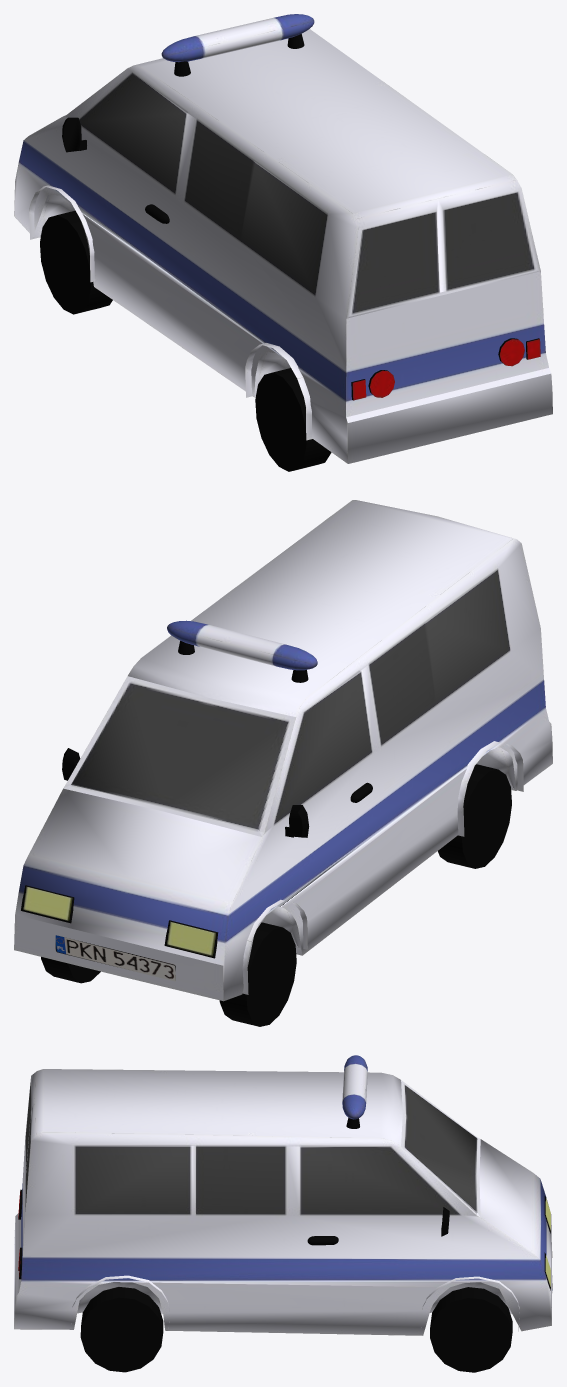
The model's file is PoliceCar.FBX.
The picture shows the model from 3 angles, top to bottom: view 1: azimuth 30°, elevation 25°; view 2: azimuth 150°, elevation 25°; view 3: azimuth 270°, elevation 25°; orthographic projection. The views are drawn at different scales.
Parts seen in each view (by area): view 1: Object003; view 2: Object003; view 3: Object003.
Boxes of the visible parts, <box> form: Object003: <box>14,14,552,471</box>; Object003: <box>14,500,552,1026</box>; Object003: <box>14,1055,552,1372</box>.
Bounding box in the file's own units: 5.22 × 12.24 × 6.31.
Materials: 1 (1 with a texture image).
